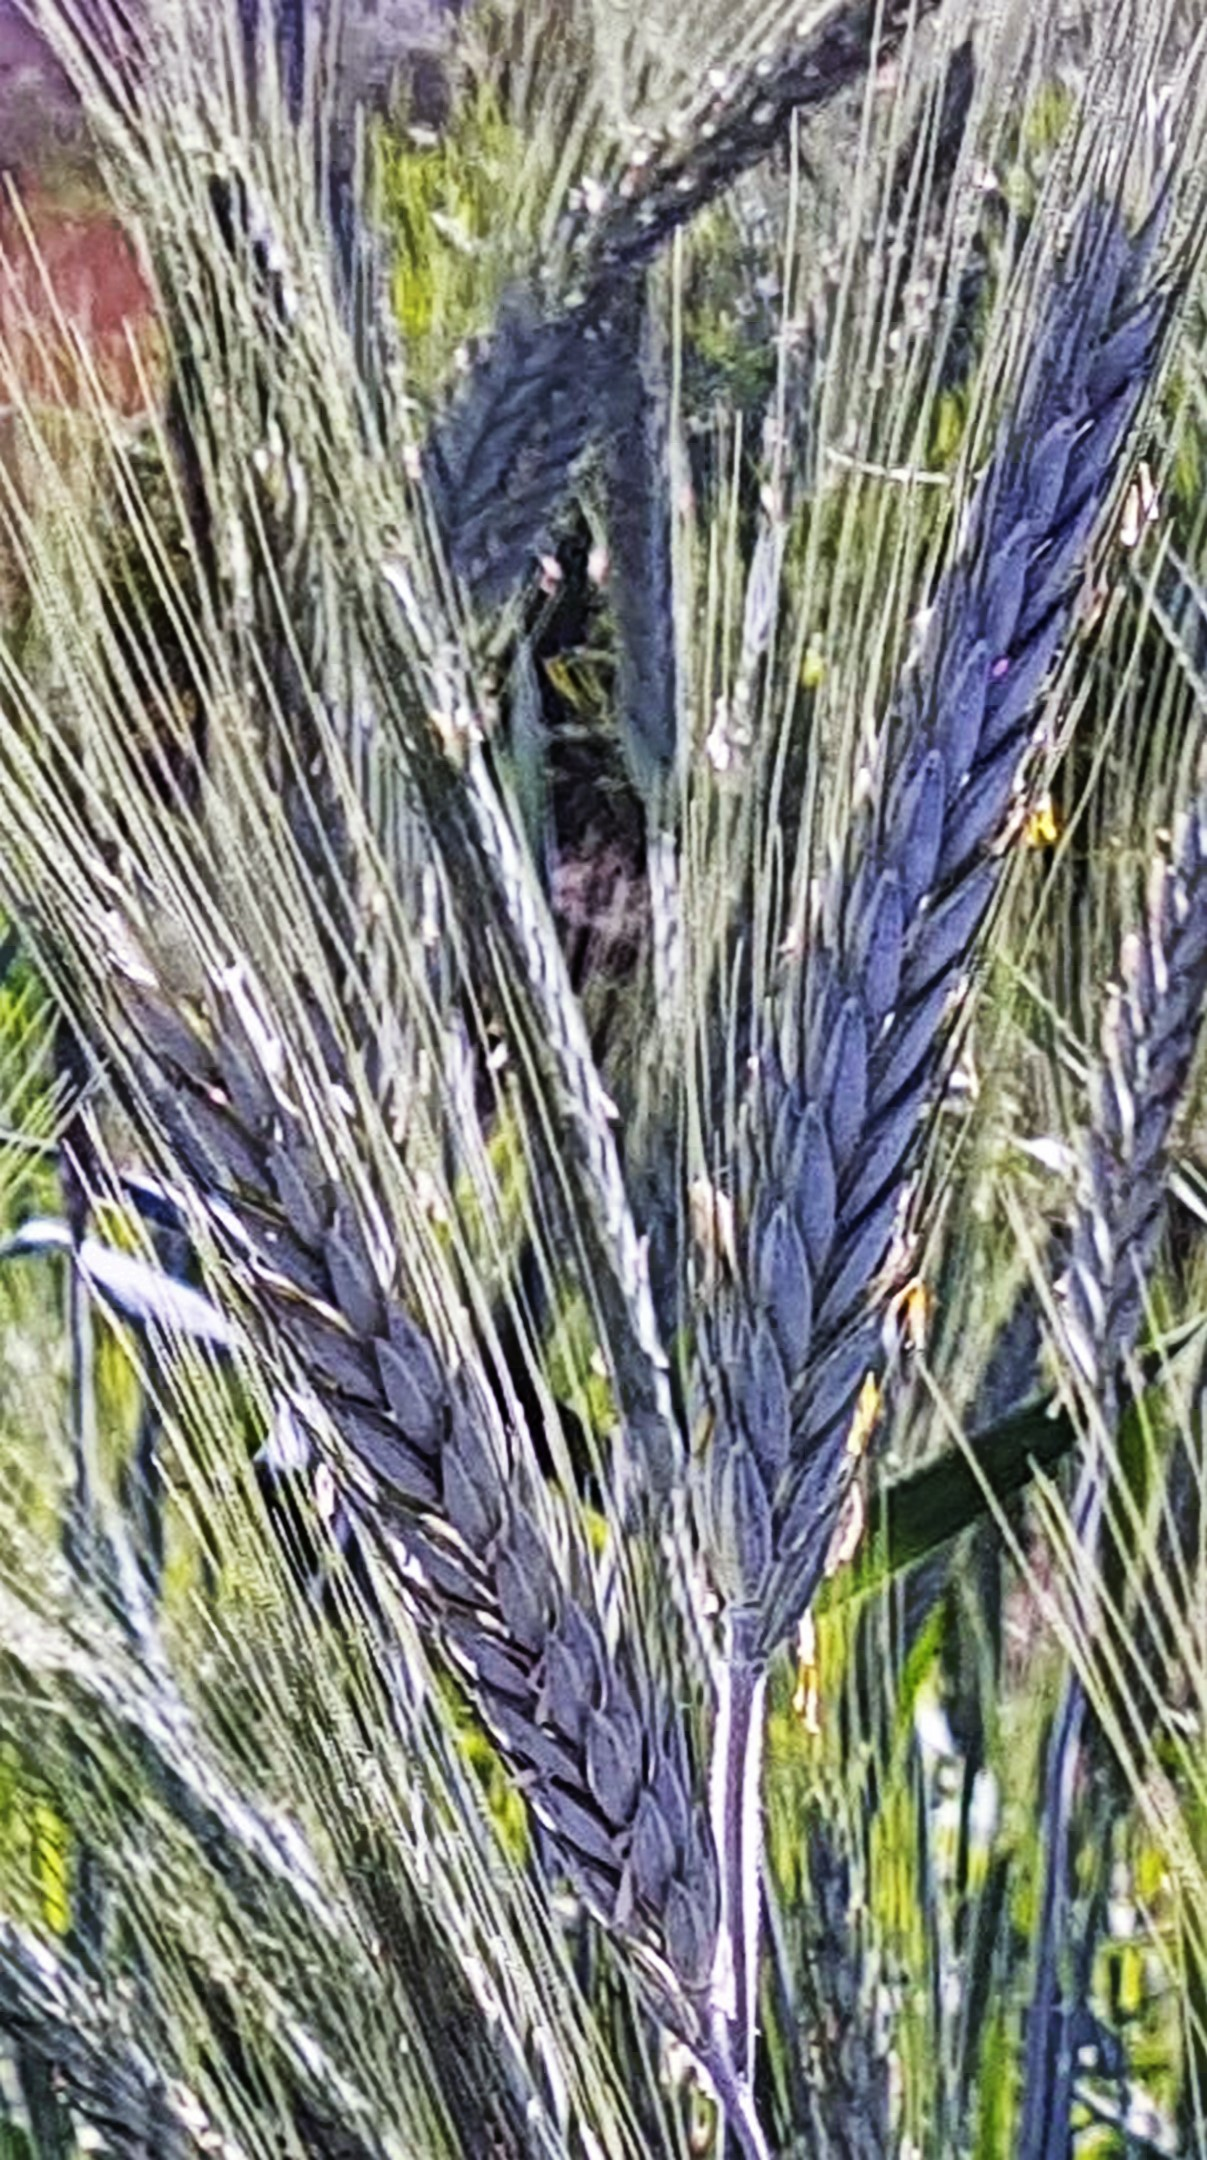Healthy Wheat: (713, 223, 1171, 1639), (59, 982, 704, 1983)
